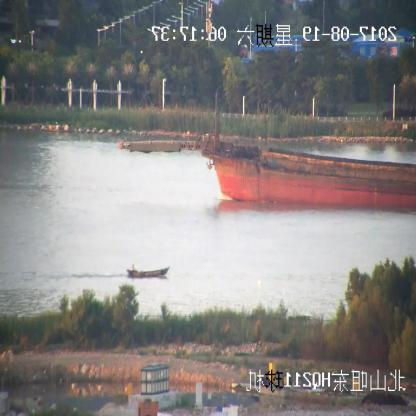Bulk Carrier: (117, 95, 416, 207)
